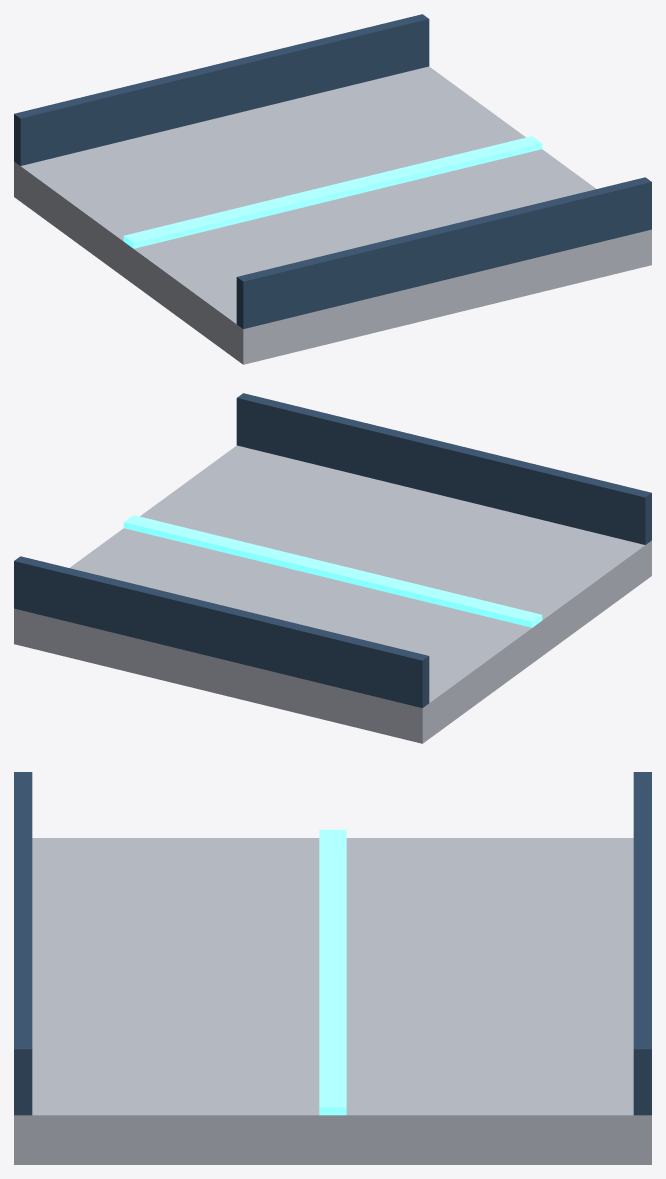
The model's file is expressway_diag.glb.
The picture shows the model from 3 angles, top to bottom: view 1: azimuth 30°, elevation 25°; view 2: azimuth 150°, elevation 25°; view 3: azimuth 270°, elevation 25°; orthographic projection. The views are drawn at different scales.
Visible parts, largest first — view 1: Deck, BarrierR, BarrierL, Lane; view 2: Deck, BarrierL, BarrierR, Lane; view 3: Deck, Lane, BarrierL, BarrierR.
Part boxes in pixels (x1=…): Deck: x1=14, y1=66, x2=651, y2=364; BarrierR: x1=14, y1=14, x2=429, y2=165; BarrierL: x1=236, y1=177, x2=651, y2=328; Lane: x1=123, y1=136, x2=542, y2=248; Deck: x1=14, y1=445, x2=651, y2=743; BarrierL: x1=236, y1=393, x2=651, y2=544; BarrierR: x1=14, y1=556, x2=429, y2=707; Lane: x1=123, y1=515, x2=542, y2=627; Deck: x1=14, y1=838, x2=651, y2=1164; Lane: x1=319, y1=829, x2=346, y2=1115; BarrierL: x1=14, y1=772, x2=32, y2=1115; BarrierR: x1=633, y1=772, x2=651, y2=1115.
Bounding box in the file's own units: 0.72 × 0.14 × 0.7.
